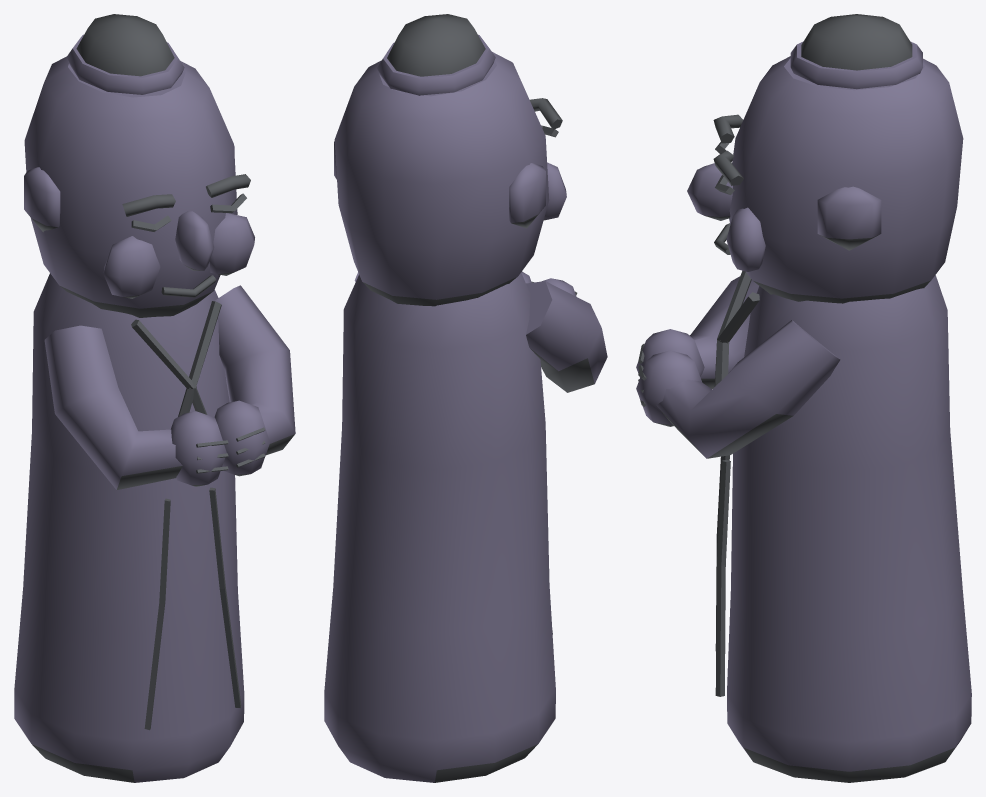
File: dongjaseok.glb
The picture shows the model from 3 angles, left to right: view 1: azimuth 30°, elevation 25°; view 2: azimuth 150°, elevation 25°; view 3: azimuth 270°, elevation 25°; orthographic projection.
Parts seen in each view (by area): view 1: dongjaseok; view 2: dongjaseok; view 3: dongjaseok.
Boxes of the visible parts, left/top/right/bottom form: dongjaseok: left=14, top=14, right=295, bottom=782; dongjaseok: left=324, top=14, right=607, bottom=782; dongjaseok: left=636, top=14, right=971, bottom=782.
Bounding box in the file's own units: 0.588 × 1.82 × 0.762.
1 material, 1 textured.
